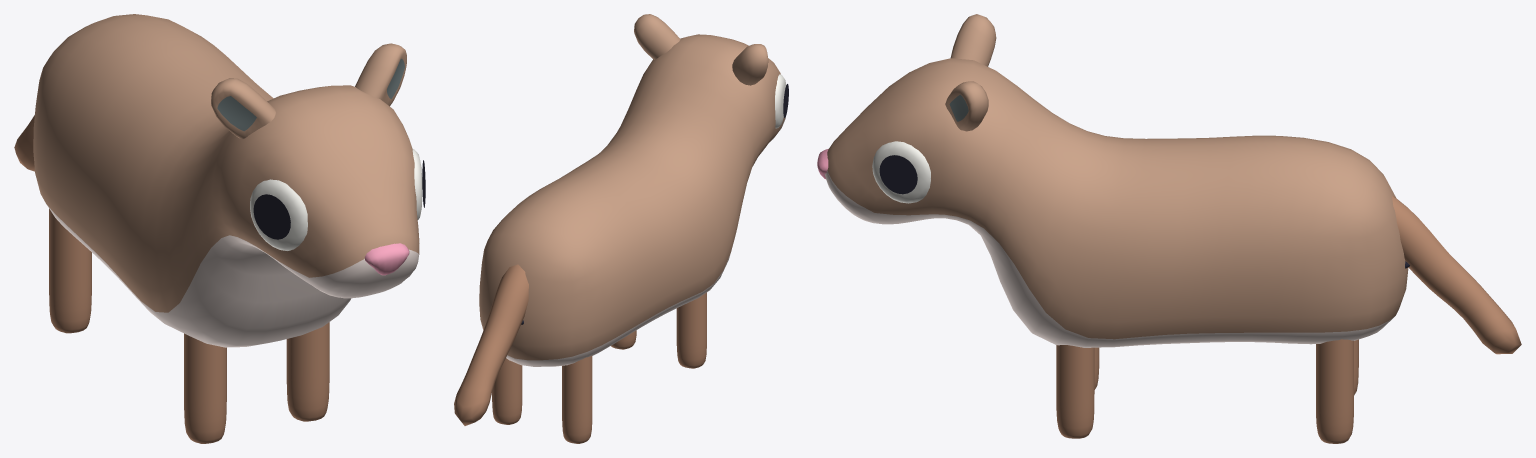
The model's file is Cougar.glb.
3 renders of one model, left to right at view 1: azimuth 30°, elevation 25°; view 2: azimuth 150°, elevation 25°; view 3: azimuth 270°, elevation 25°, orthographic. The views are drawn at different scales.
Visible parts, largest first — view 1: Cougar; view 2: Cougar; view 3: Cougar.
Part boxes in pixels (<box>): Cougar: <box>14,14,425,443</box>; Cougar: <box>454,14,788,443</box>; Cougar: <box>817,14,1521,443</box>.
Size of the model in its own units: 1.04 by 2.03 by 3.59.
1 material, 1 textured.
